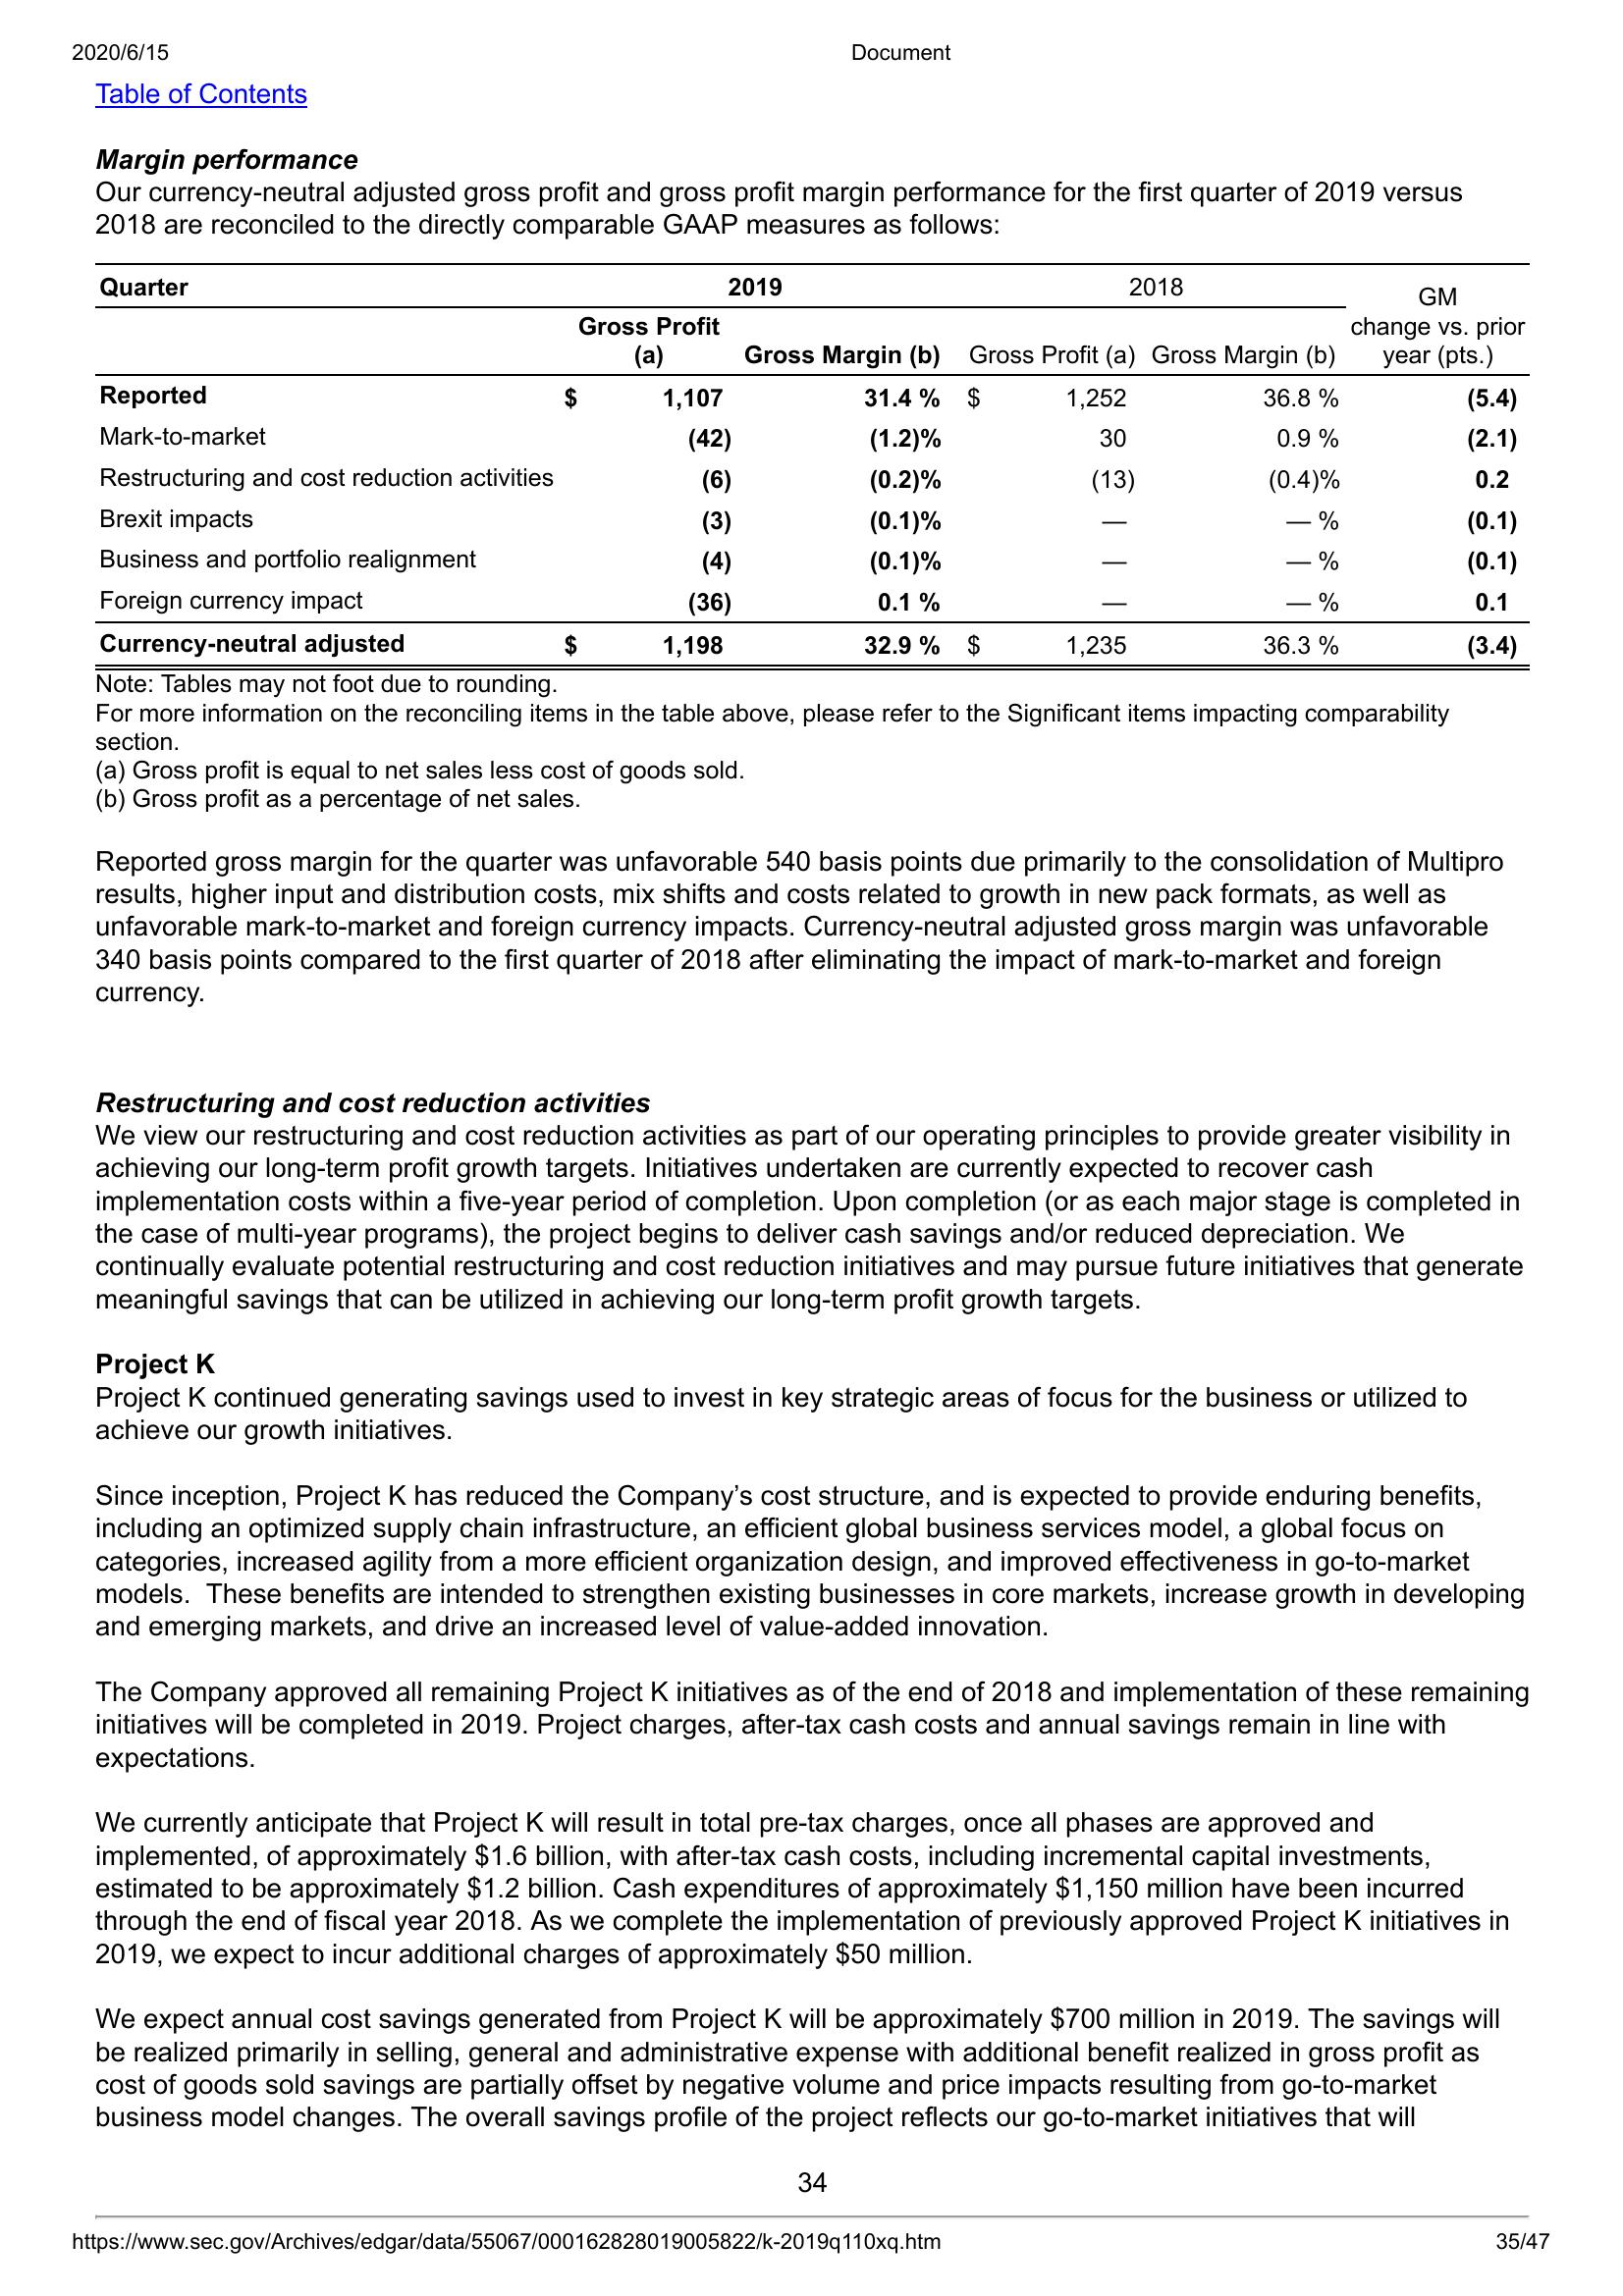table: (93, 256, 1535, 676)
